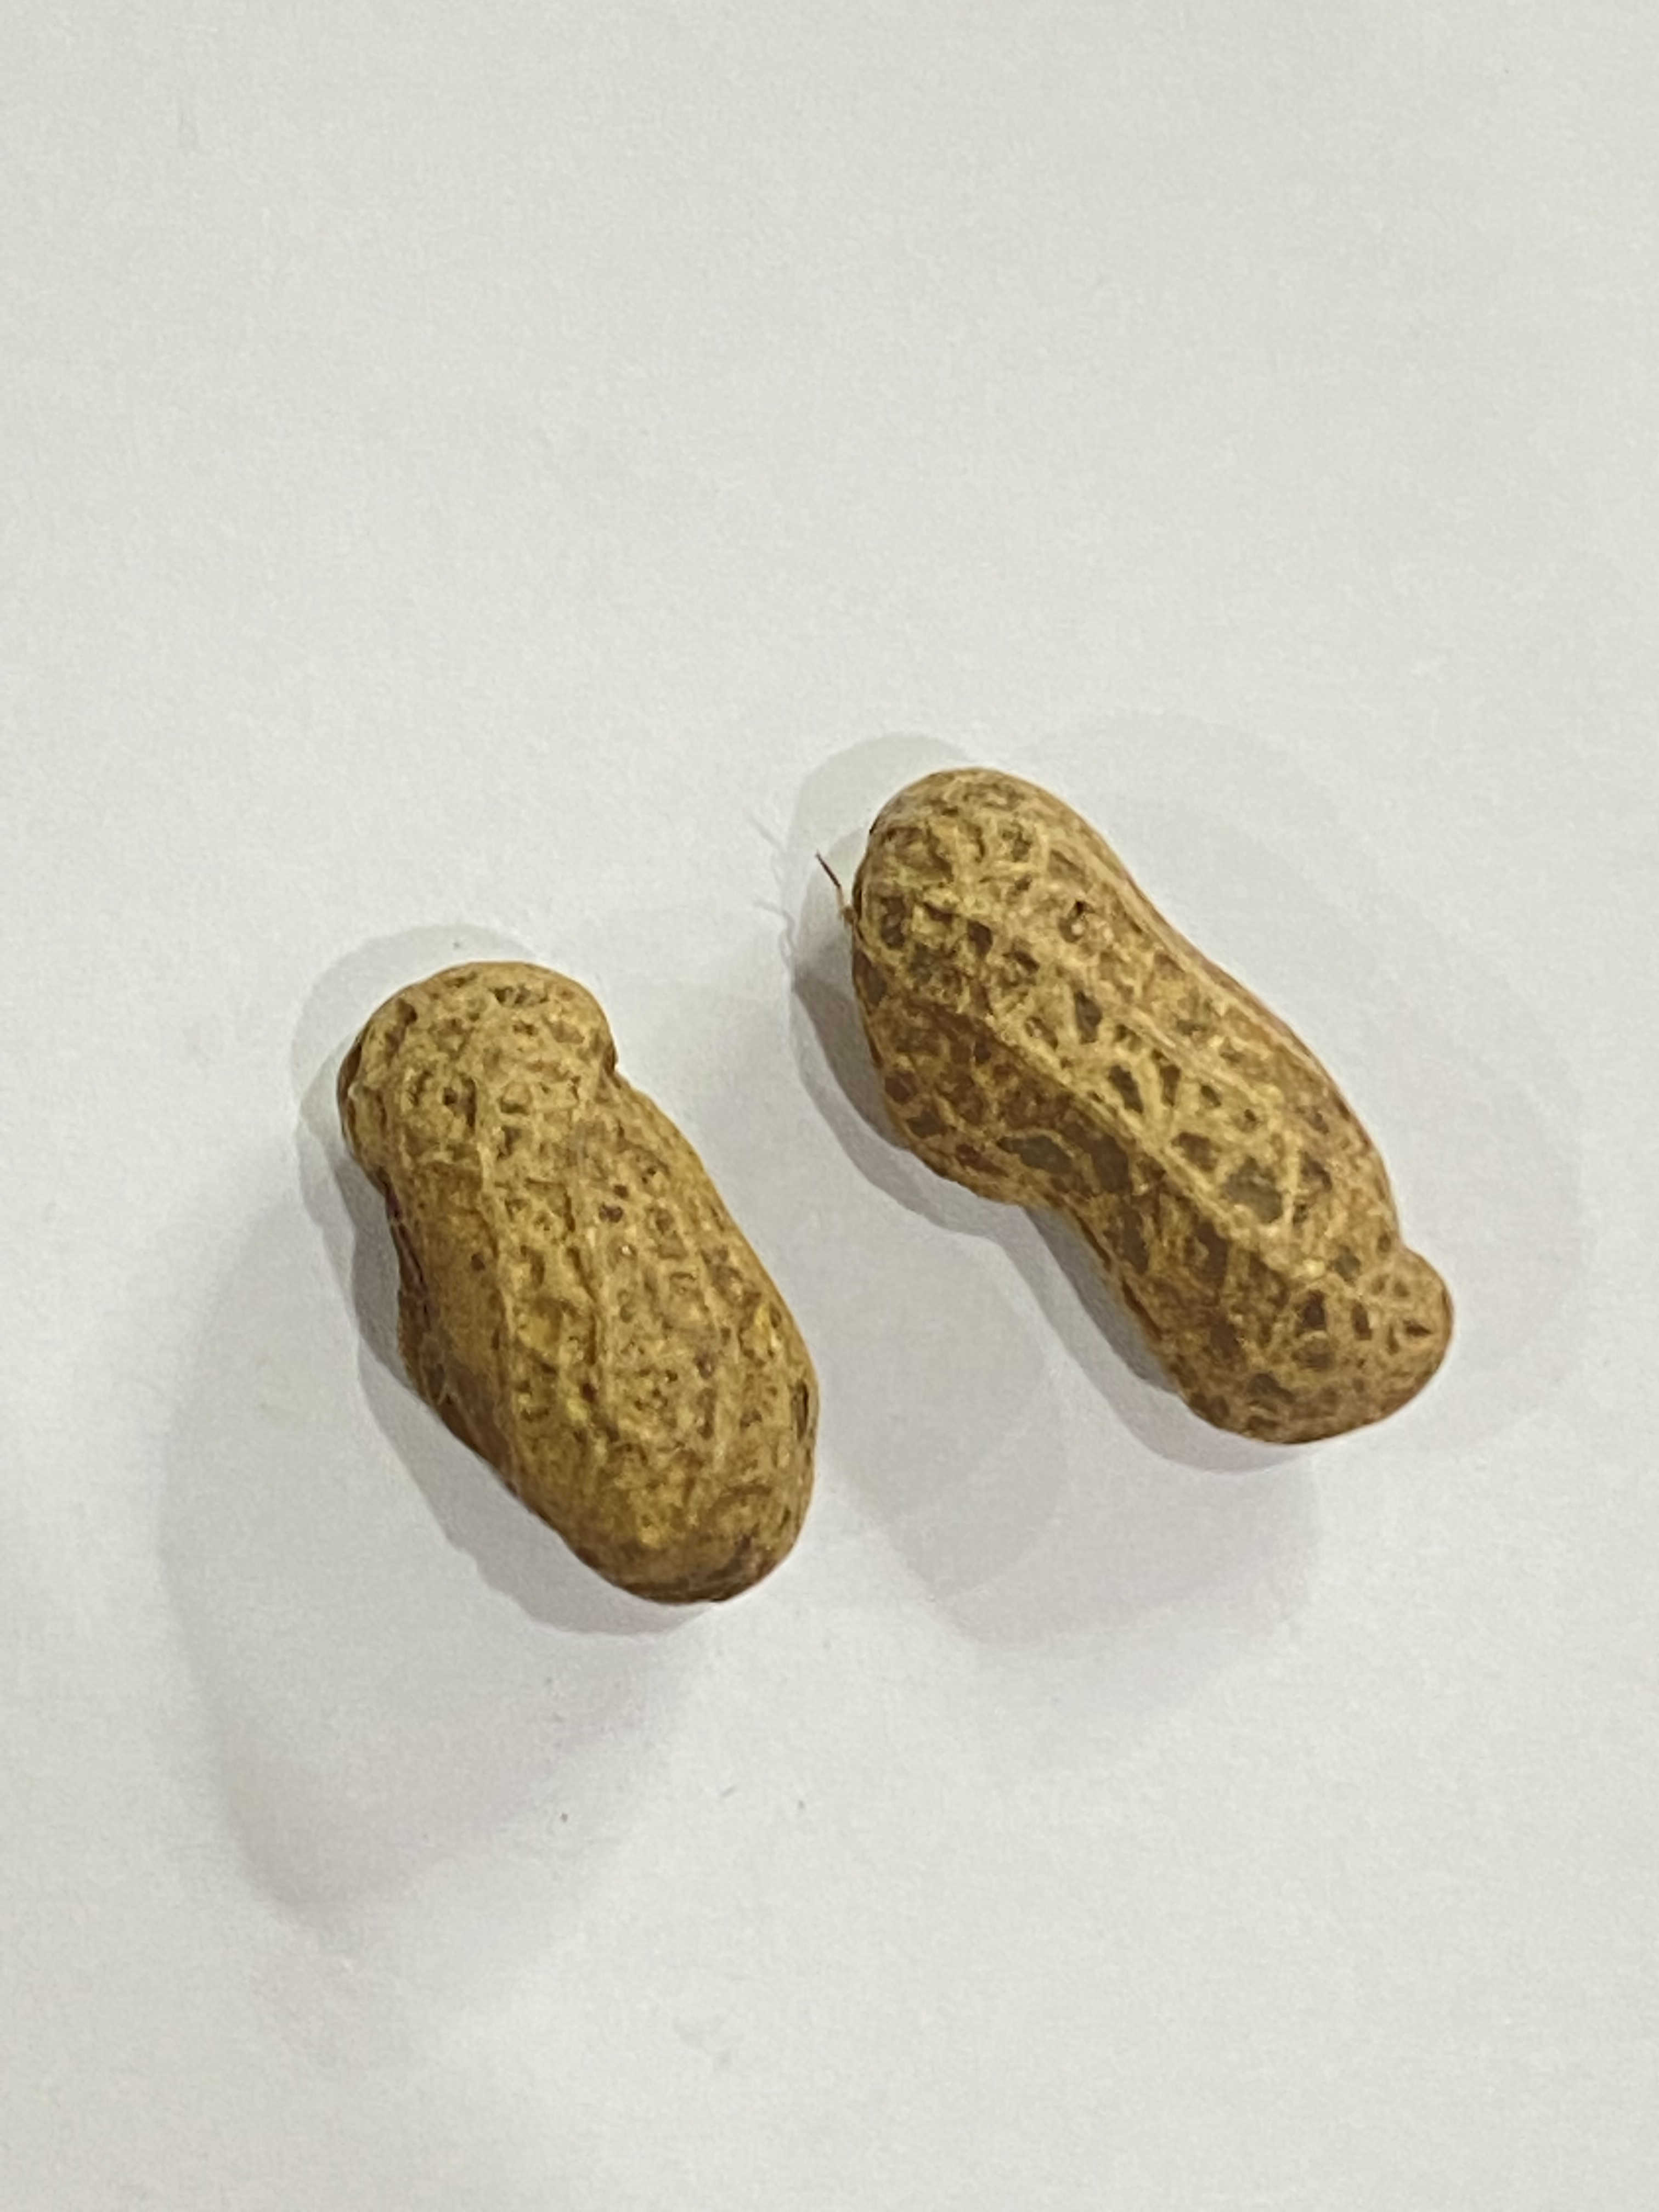kacang2: (845, 766, 1452, 1449), (342, 965, 828, 1602)
